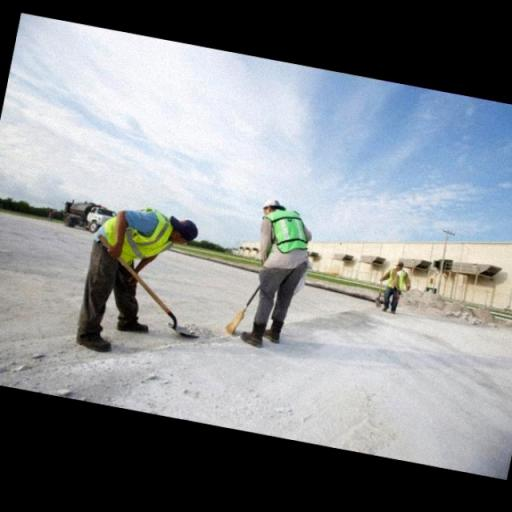Person: (70, 188, 204, 364), (228, 193, 324, 344), (357, 246, 428, 315)
vest: (94, 208, 172, 273), (264, 210, 310, 260), (382, 265, 416, 301)
